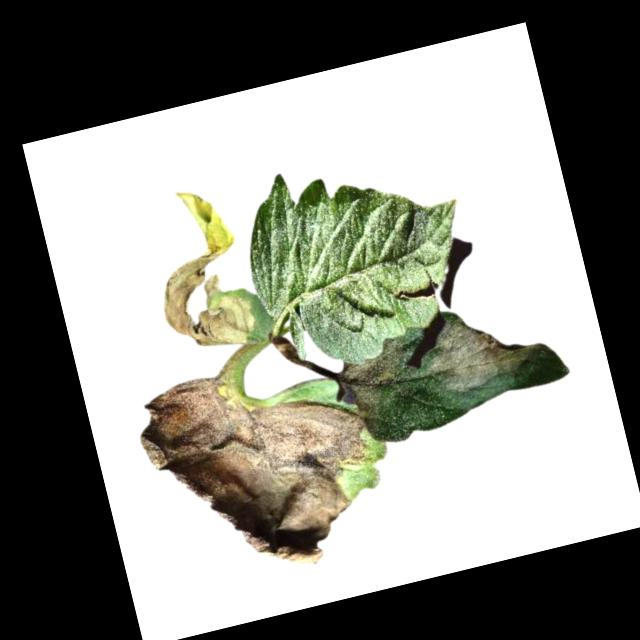Late_blight: (128, 341, 394, 597), (133, 181, 259, 361), (418, 300, 542, 400), (326, 338, 419, 441)
healthy: (230, 134, 489, 383)
